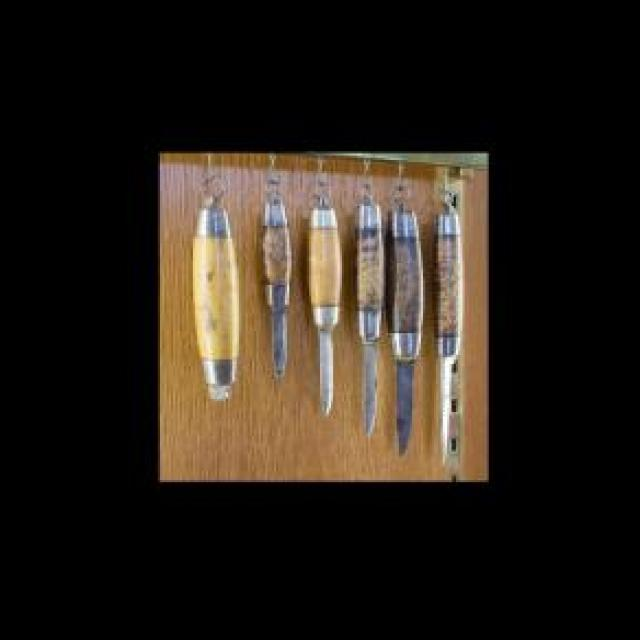knife: (387, 196, 421, 467), (434, 176, 465, 467), (254, 184, 296, 395), (348, 206, 380, 447), (309, 180, 335, 421)
